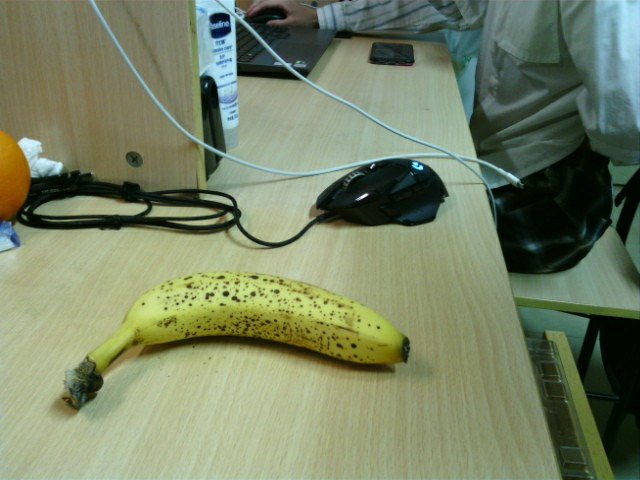normal_banana: (64, 271, 410, 409)
